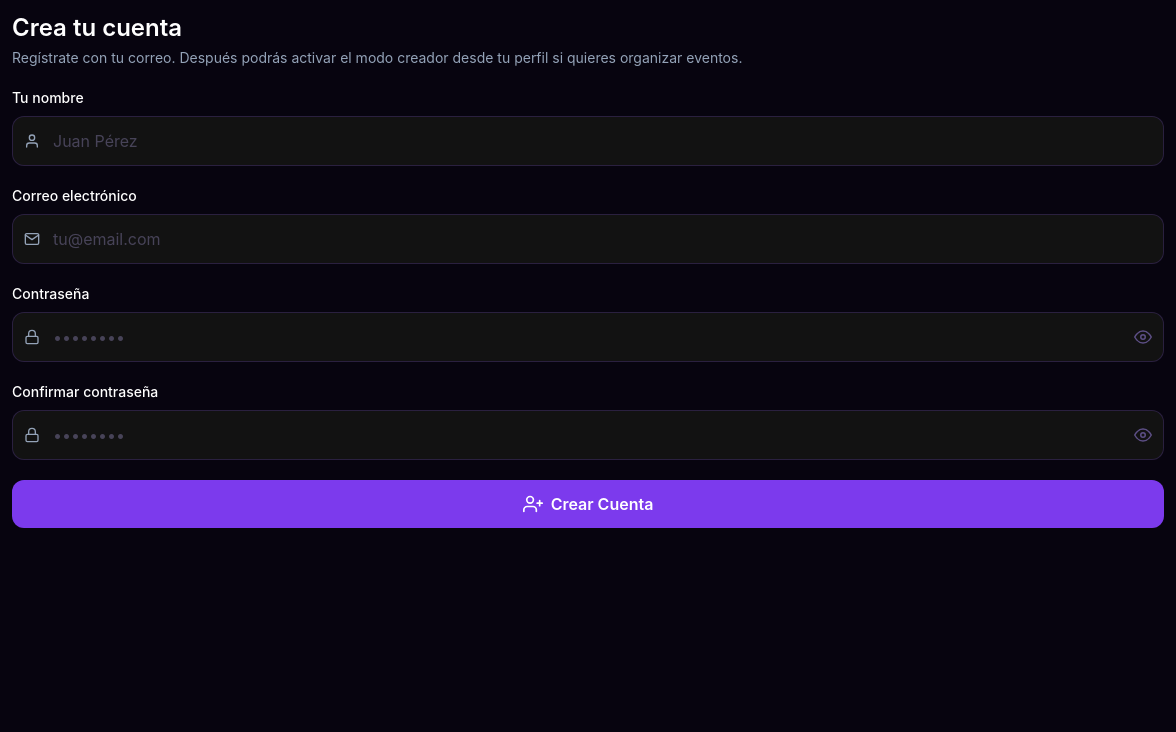
Test: SignUpForm › validaciones › muestra error si la contraseña tiene menos de 6 caracteres
This screenshot has width=1176, height=732.
Type "Test" into the field with placeholder "Juan Pérez".
click(588, 141); type("Test")  # box 12,116 -> 1164,166
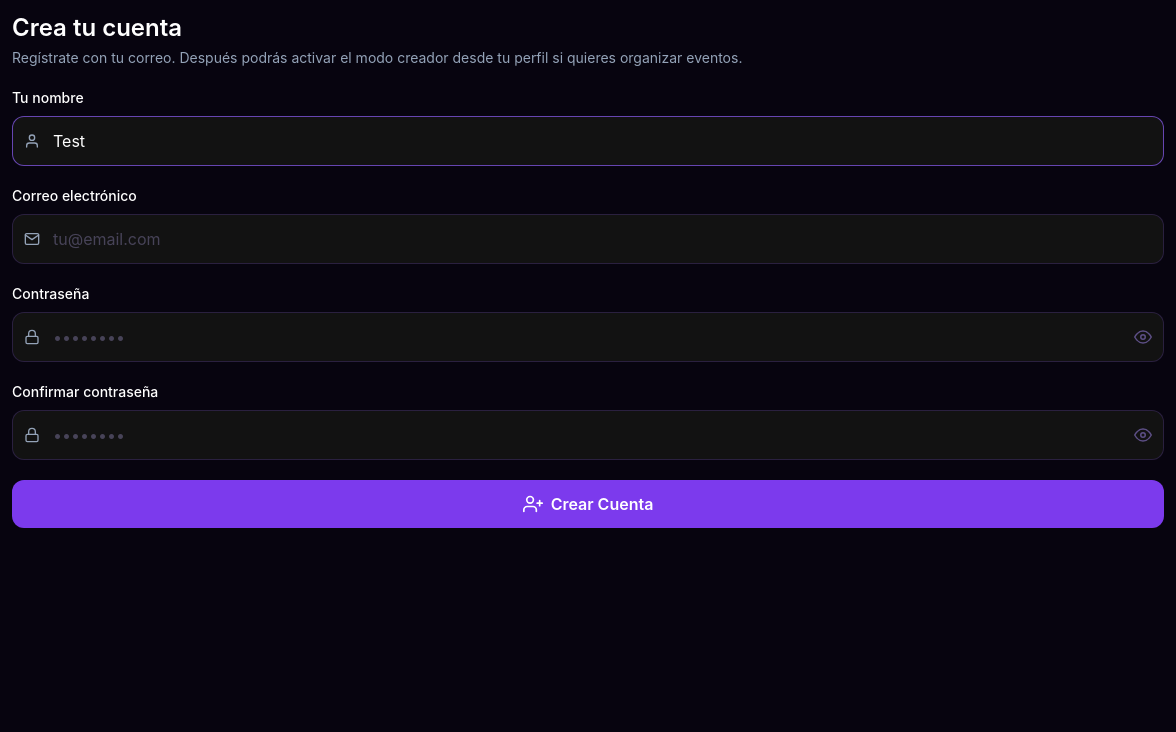
Type "test@emeet.com" into the field with placeholder "tu@email.com".
click(588, 239); type("test@emeet.com")  # box 12,214 -> 1164,264
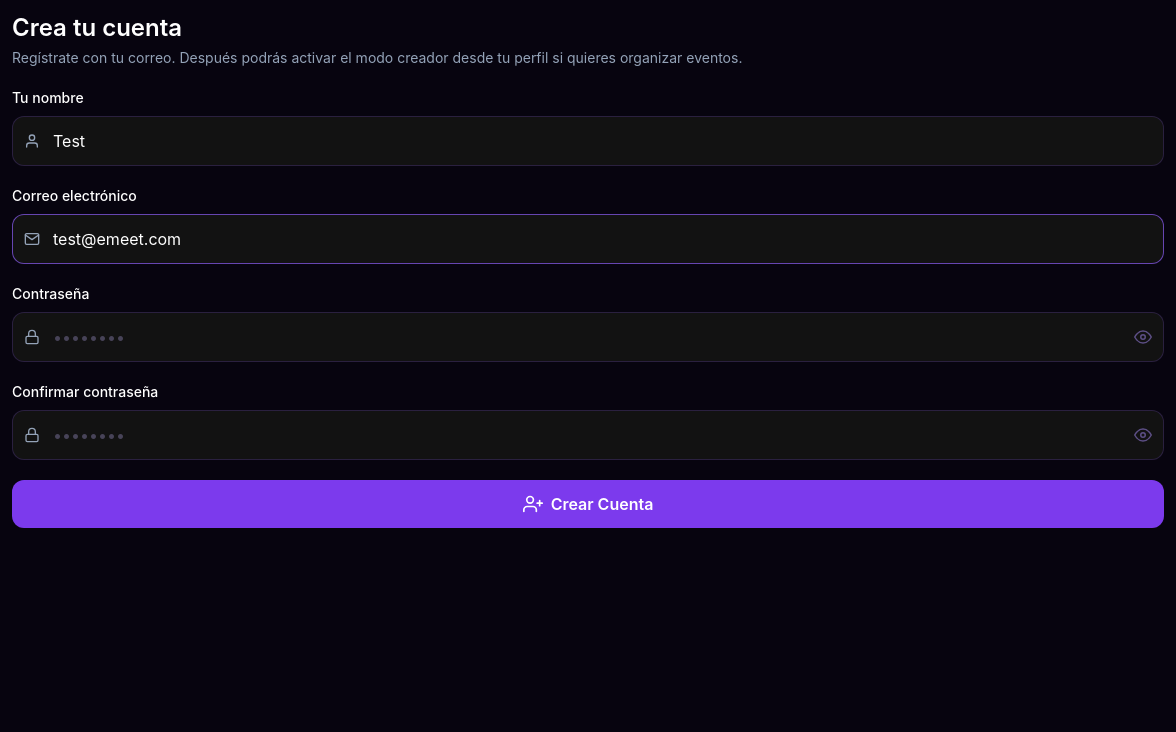
Type "123" into the password field labelled "Contraseña".
click(588, 337); type("123")  # box 12,312 -> 1164,362
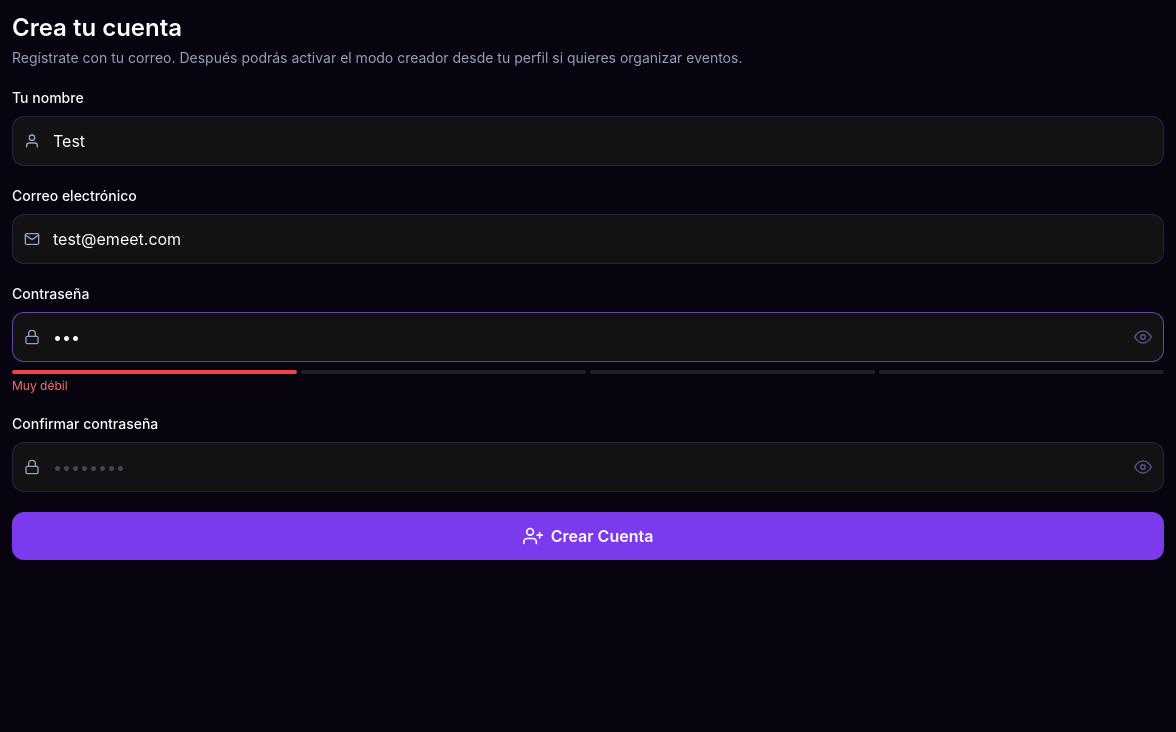
Type "123" into the password field labelled "Confirmar contraseña".
click(588, 467); type("123")  # box 12,442 -> 1164,492
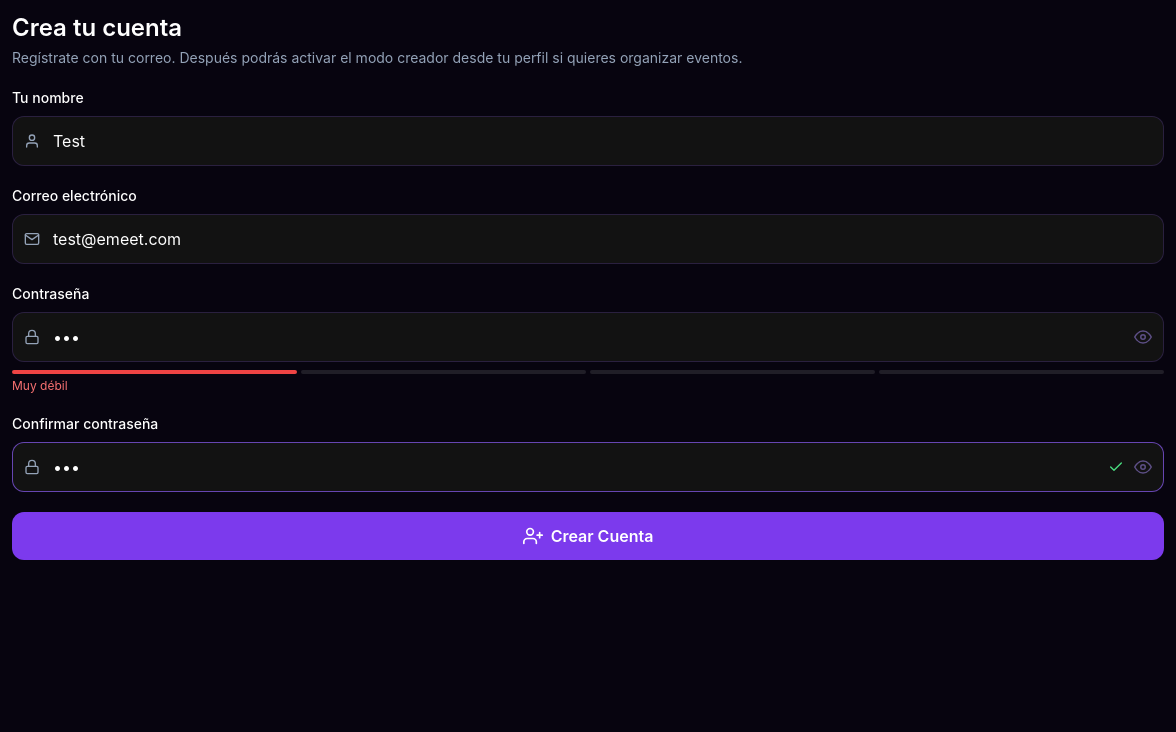
Click the button "Crear Cuenta".
click(588, 536)  # box 12,512 -> 1164,560
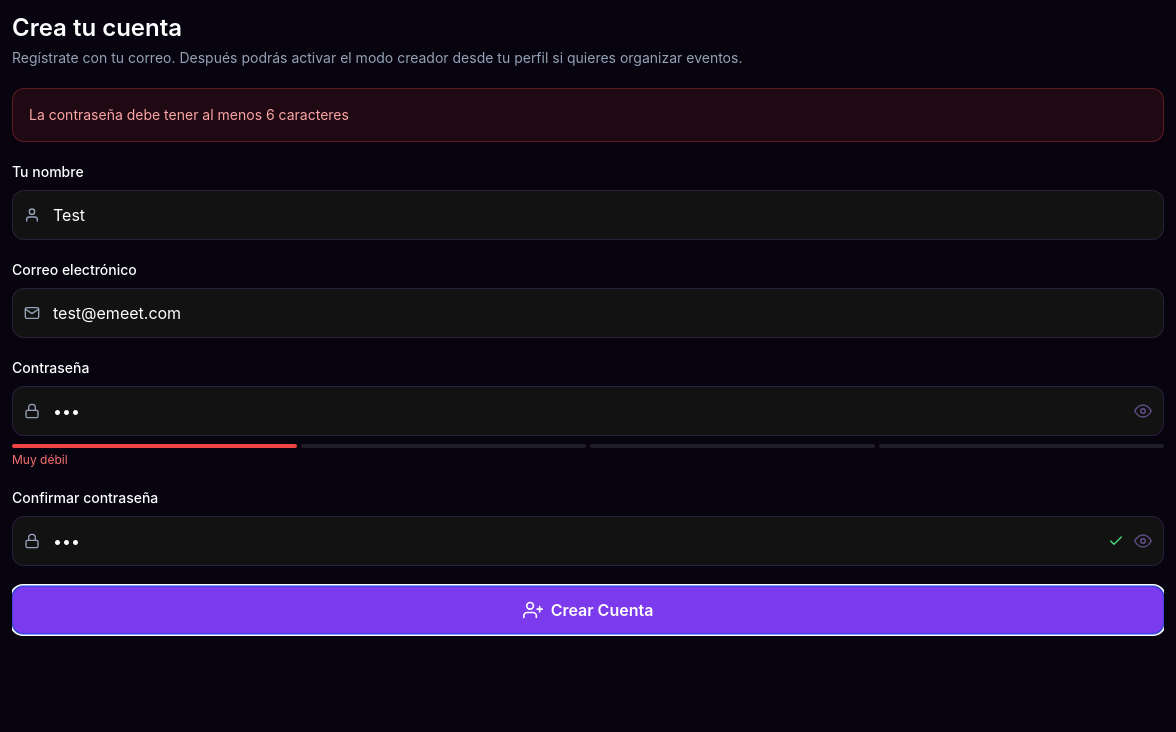
Result: the text "La contraseña debe tener al menos 6 caracteres" is shown at 12,88 -> 1164,142
